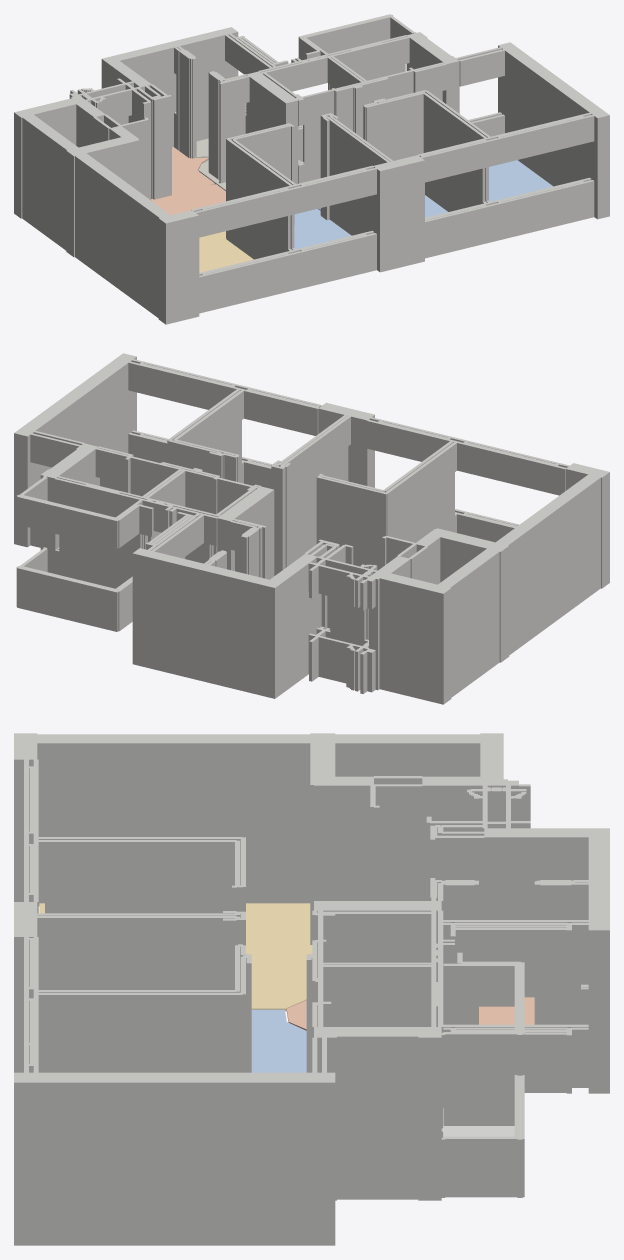
3 renders of one model, top to bottom at view 1: azimuth 30°, elevation 25°; view 2: azimuth 150°, elevation 25°; view 3: azimuth 270°, elevation 25°, orthographic. The views are drawn at different scales.
Visible parts, largest first — view 1: walls, room:kitchen:0, room:bedroom:9, room:bedroom:7, room:living:6, room:yard:1; view 2: walls; view 3: walls, room:living:6, room:bedroom:7, room:kitchen:0, room:ledge:3.
Part boxes in pixels (x1,y1,x2,y2): walls: (14,14,609,324); room:kitchen:0: (151,147,225,215); room:bedroom:9: (489,160,553,201); room:bedroom:7: (294,209,351,248); room:living:6: (199,231,253,272); room:yard:1: (196,138,225,190); walls: (14,353,609,704); walls: (14,733,609,1245); room:living:6: (39,903,312,1011); room:bedroom:7: (251,1009,306,1072); room:kitchen:0: (286,997,534,1030); room:ledge:3: (443,1126,514,1136).
Bounding box in the file's own units: 12.86 × 2.8 × 9.28.
